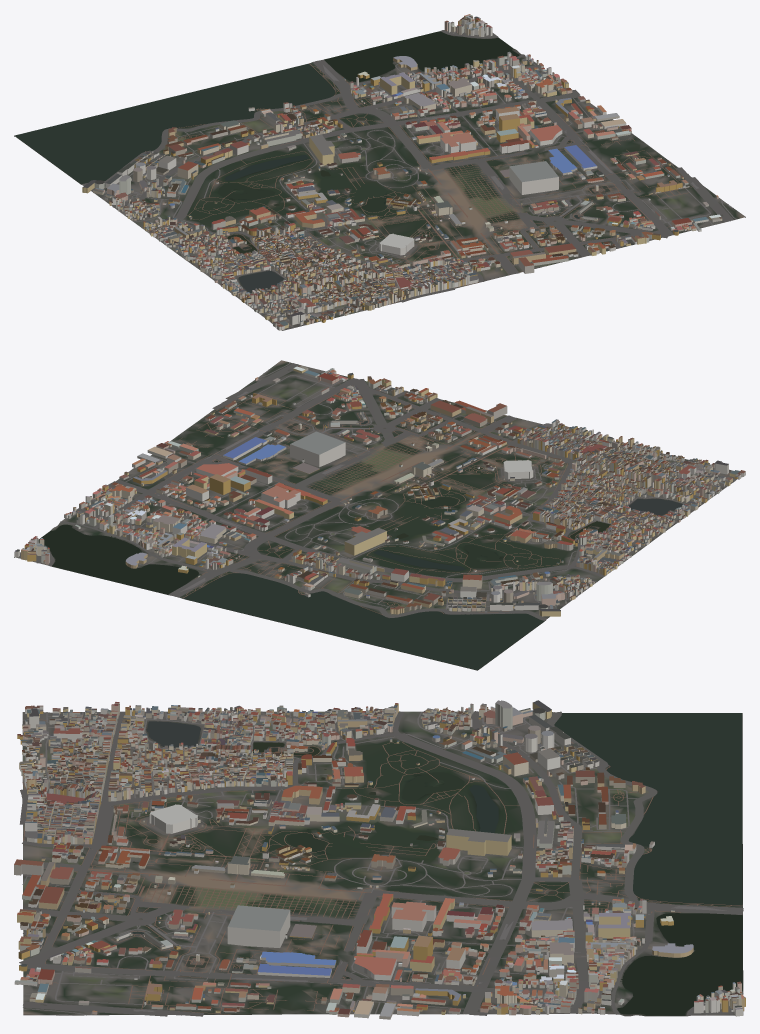
3 renders of one model, top to bottom at view 1: azimuth 30°, elevation 25°; view 2: azimuth 150°, elevation 25°; view 3: azimuth 270°, elevation 25°, orthographic. The views are drawn at different scales.
Parts seen in each view (by area): view 1: buildings, ground, roads, water; view 2: buildings, ground, roads, water; view 3: buildings, ground, roads, water.
Part boxes in pixels (x1,y1,x2,y2): buildings: (82, 14, 722, 330); ground: (14, 27, 745, 330); roads: (81, 27, 736, 327); water: (15, 31, 609, 322); buildings: (14, 365, 745, 616); ground: (14, 360, 737, 670); roads: (18, 362, 735, 620); water: (38, 414, 734, 670); buildings: (14, 700, 745, 1019); ground: (22, 711, 743, 1016); roads: (19, 711, 743, 1016); water: (45, 712, 742, 1015).
Bounding box in the file's own units: 1446 × 52.08 × 1425.
